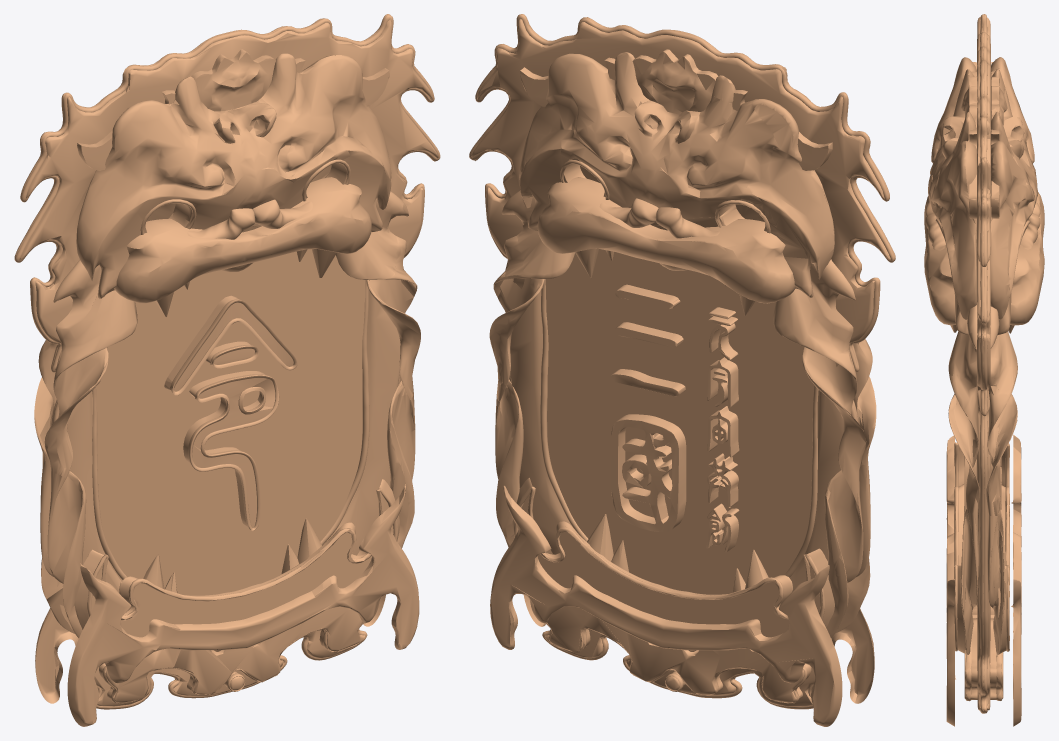
The model's file is jinshu-token-processed.glb.
The picture shows the model from 3 angles, left to right: view 1: azimuth 30°, elevation 25°; view 2: azimuth 150°, elevation 25°; view 3: azimuth 270°, elevation 25°; orthographic projection. The views are drawn at different scales.
Size of the model in its own units: 97.35 by 144 by 26.14.
